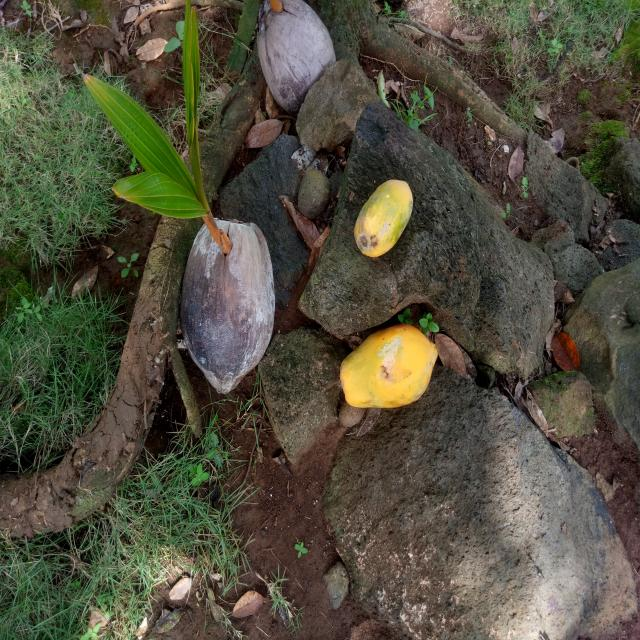Pepaya rippen: (328, 320, 442, 419), (350, 171, 418, 262)
